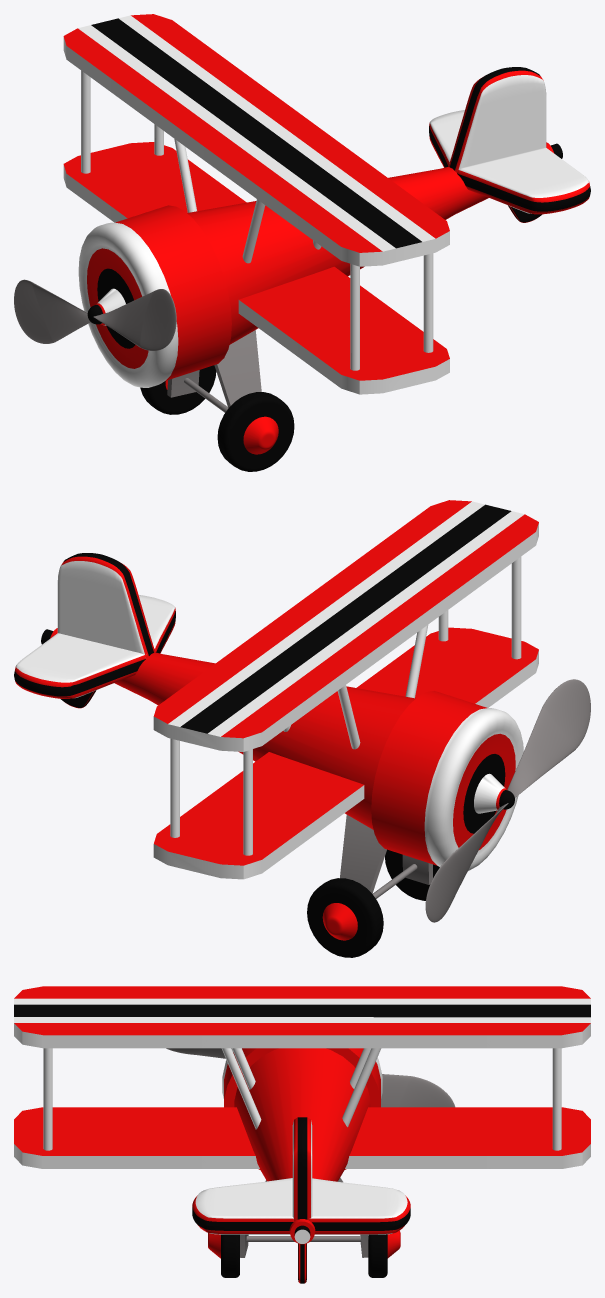
Rendered from uçak.fbx.
The picture shows the model from 3 angles, top to bottom: view 1: azimuth 30°, elevation 25°; view 2: azimuth 150°, elevation 25°; view 3: azimuth 270°, elevation 25°; orthographic projection. The views are drawn at different scales.
Parts seen in each view (by area): view 1: polySurface9, pCylinder5.001; view 2: polySurface9, pCylinder5.001; view 3: polySurface9, pCylinder5.001.
Part boxes in pixels (x1,y1,x2,y2): polySurface9: [63, 14, 590, 471]; pCylinder5.001: [14, 279, 176, 350]; polySurface9: [14, 500, 538, 957]; pCylinder5.001: [425, 679, 590, 922]; polySurface9: [14, 986, 590, 1283]; pCylinder5.001: [166, 1048, 455, 1107].
Bounding box in the file's own units: 16.93 × 10.21 × 18.82.
